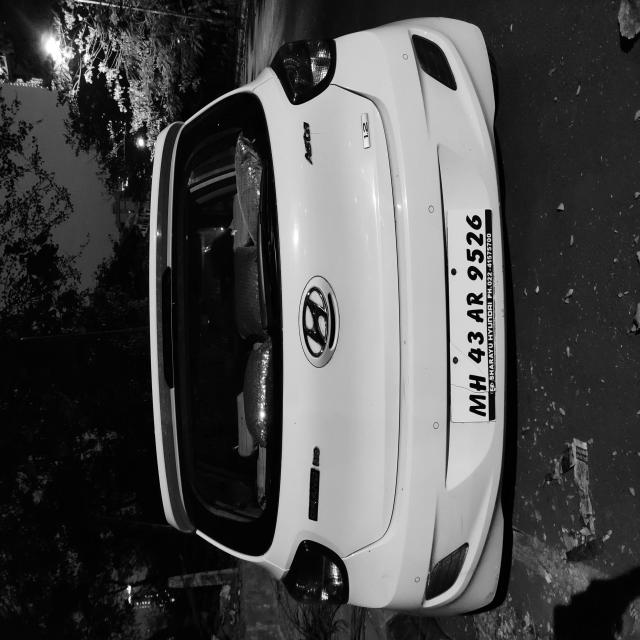car: (16, 192, 472, 640)
license-plate: (162, 608, 323, 640)
